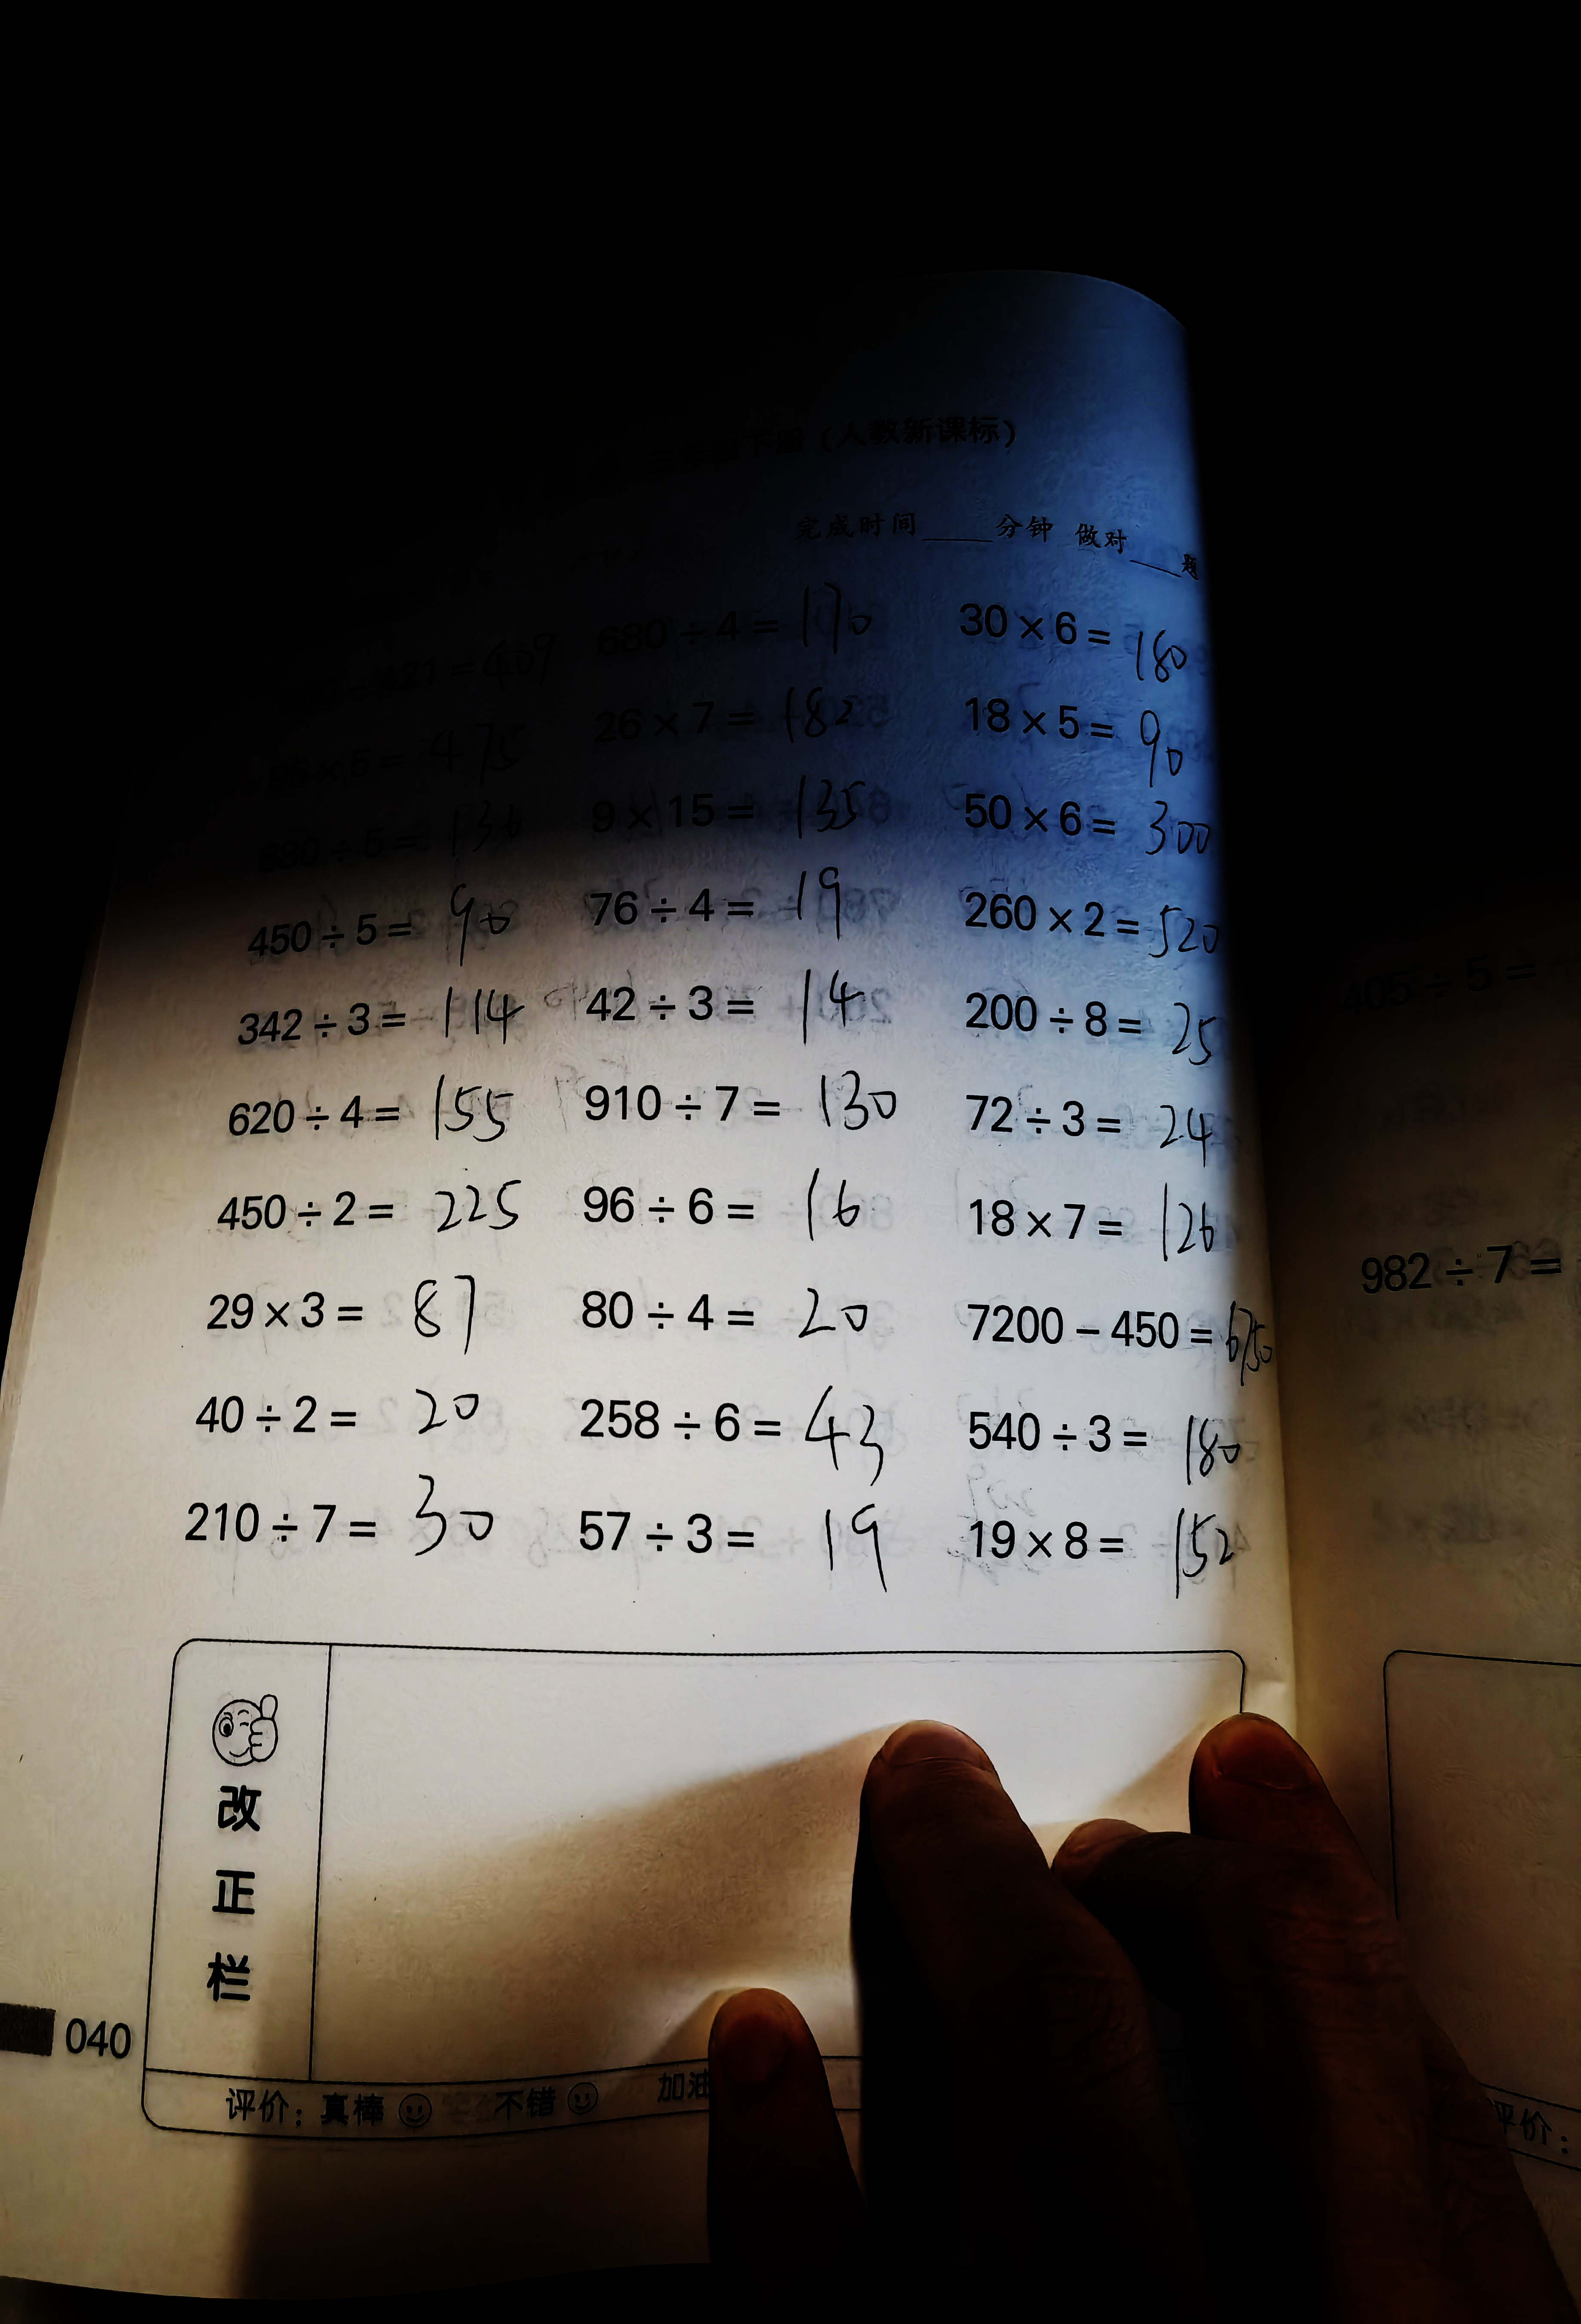equation: (540, 1481, 942, 1622), (157, 1472, 531, 1579), (568, 1373, 907, 1488), (552, 1251, 882, 1359), (577, 1046, 909, 1151), (951, 1496, 1283, 1592), (939, 1392, 1260, 1486), (205, 1271, 506, 1368), (960, 1295, 1292, 1382), (939, 1177, 1240, 1269), (953, 581, 1205, 690), (963, 679, 1230, 780), (251, 630, 559, 716), (169, 1369, 498, 1451), (953, 979, 1242, 1071), (948, 1076, 1244, 1165), (582, 769, 895, 852), (558, 967, 865, 1050), (215, 979, 549, 1053), (584, 589, 898, 667), (212, 1179, 533, 1251), (222, 1076, 508, 1156), (581, 1165, 866, 1241), (955, 886, 1228, 963), (249, 806, 552, 875), (579, 683, 888, 750), (965, 783, 1230, 861), (586, 870, 895, 935), (222, 896, 521, 963), (249, 725, 538, 787)
